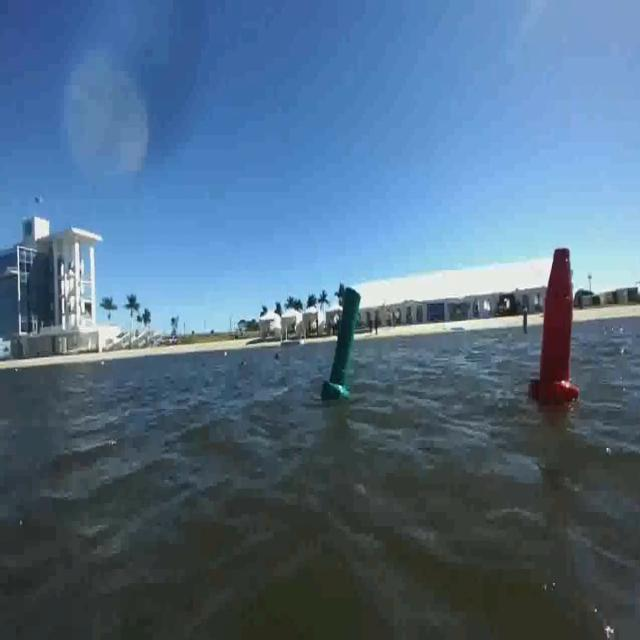green-column-buoy: (324, 290, 362, 398)
red-column-buoy: (531, 242, 580, 408)
